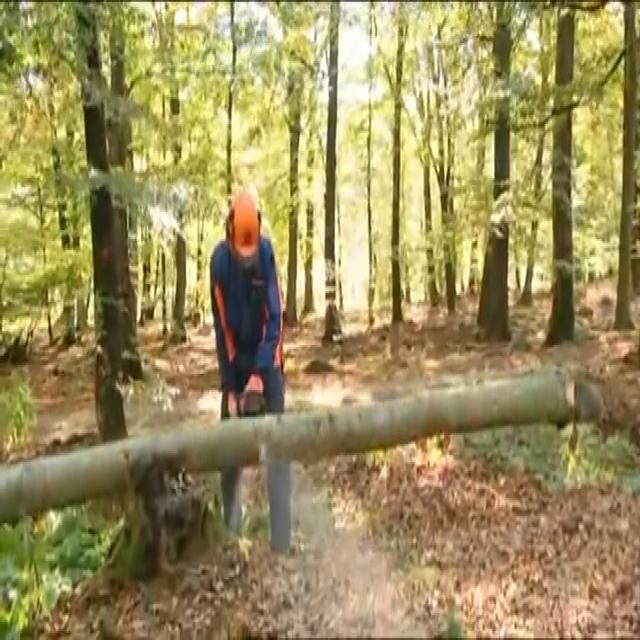Chainsaw: (226, 366, 283, 487)
